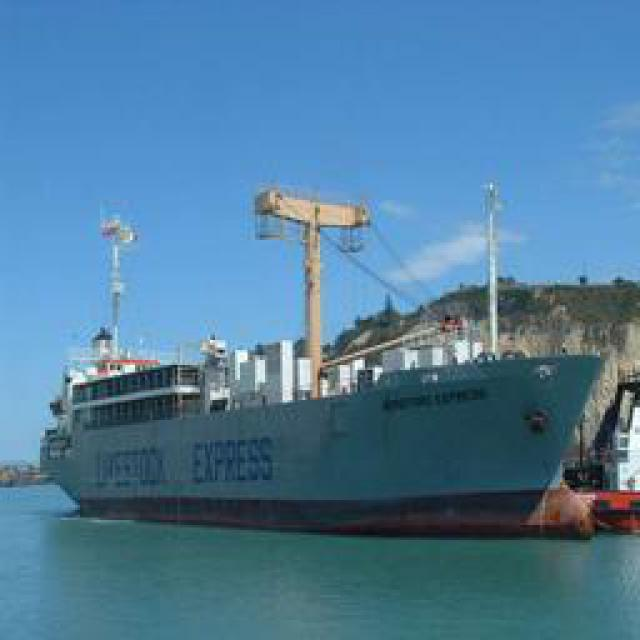Ship: (42, 200, 625, 518)
